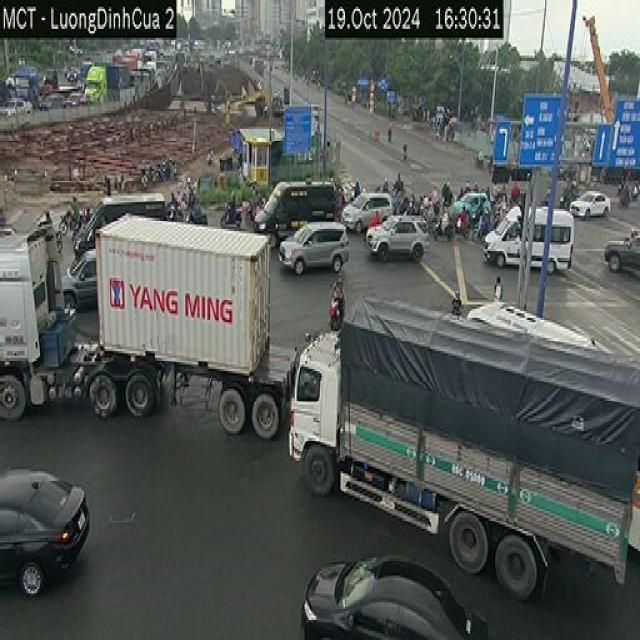car: (301, 550, 492, 639), (0, 469, 92, 603), (483, 204, 575, 288), (253, 174, 336, 243), (278, 223, 353, 279), (365, 215, 429, 267), (604, 231, 640, 282)
container-truck: (0, 212, 303, 441)
truck: (281, 292, 640, 617)
